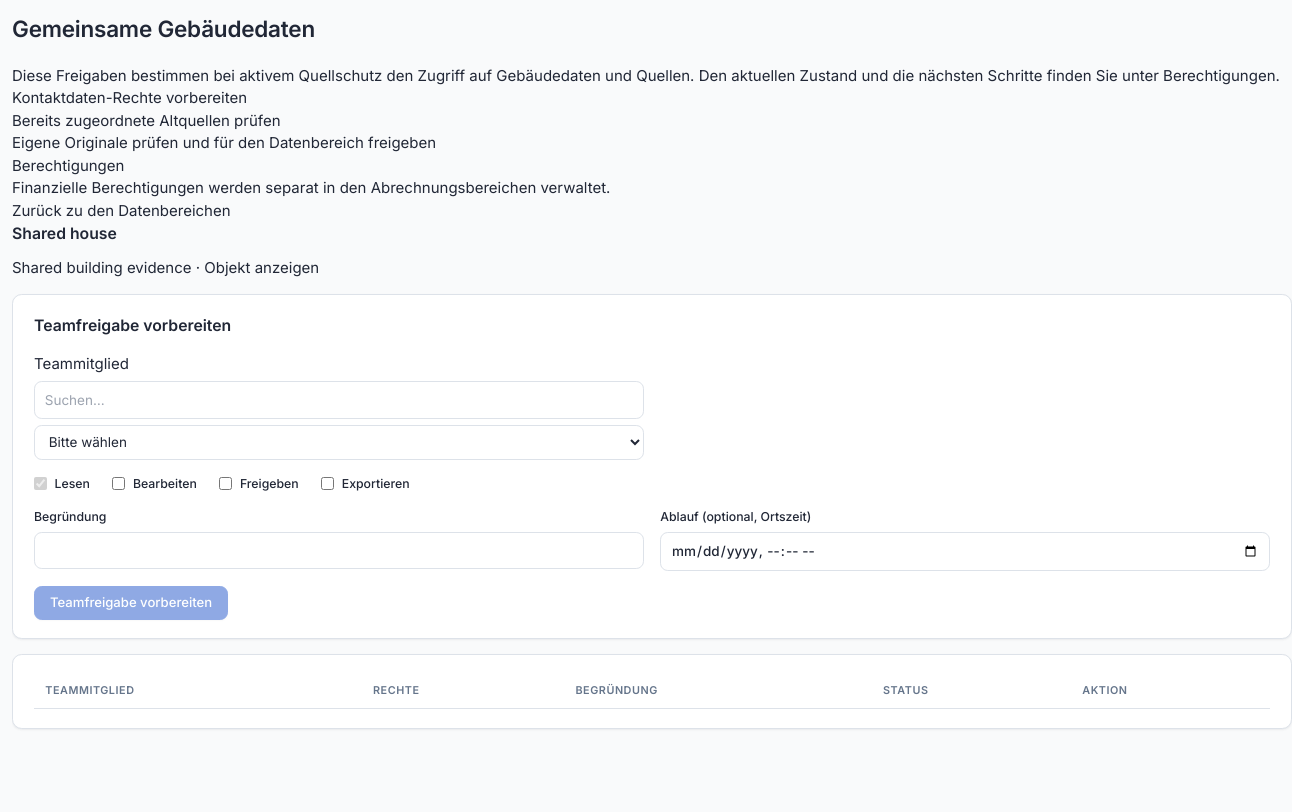
Test: retries a grant with one key, then reloads durable revocation
The image size is (1292, 812).
Expected: the heading "Shared house" is shown, [12,224,117,243]
Select "Clerk (clerk@example.test)" in the dropdown named "Teammitglied" at {"x": 339, "y": 442}, box [34,424,644,460]
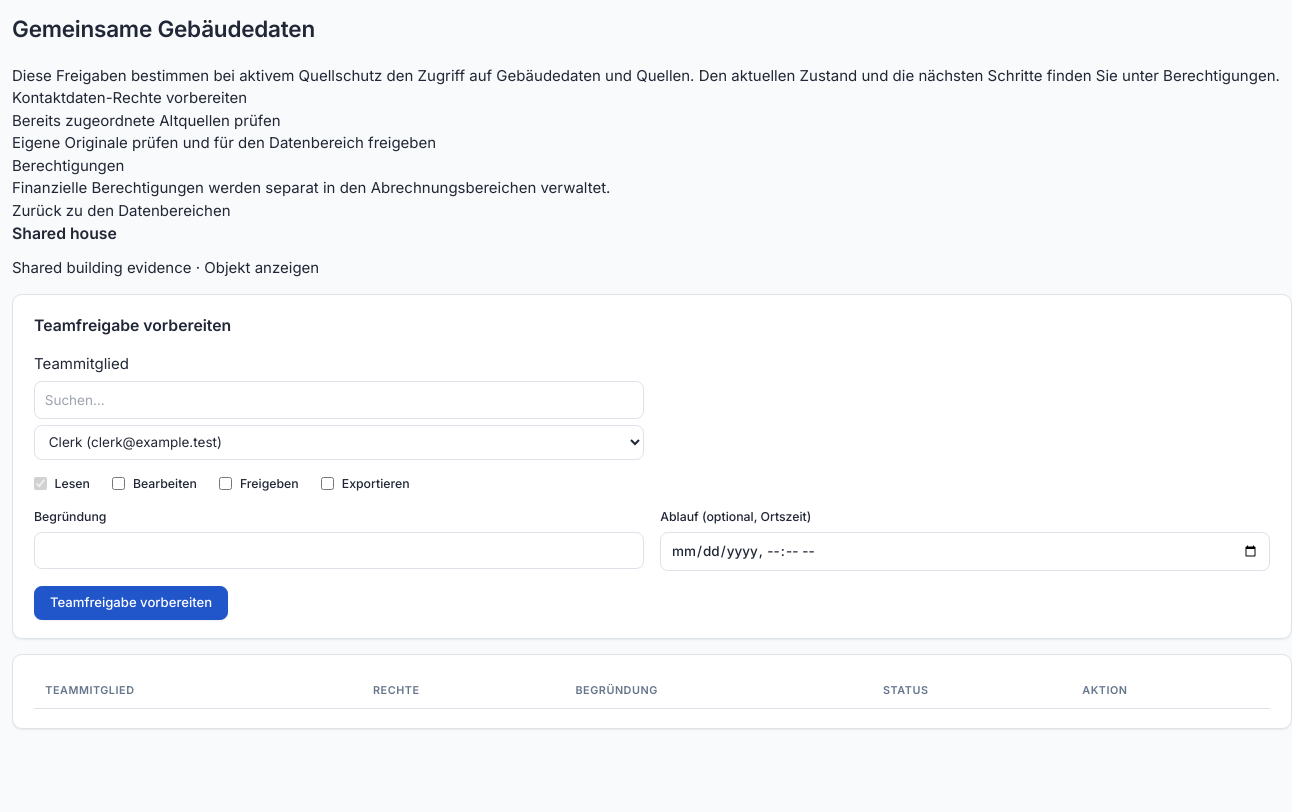
Type "Reviewed audience" into the field labelled "Begründung" at {"x": 339, "y": 550}, box [34,532,644,569]
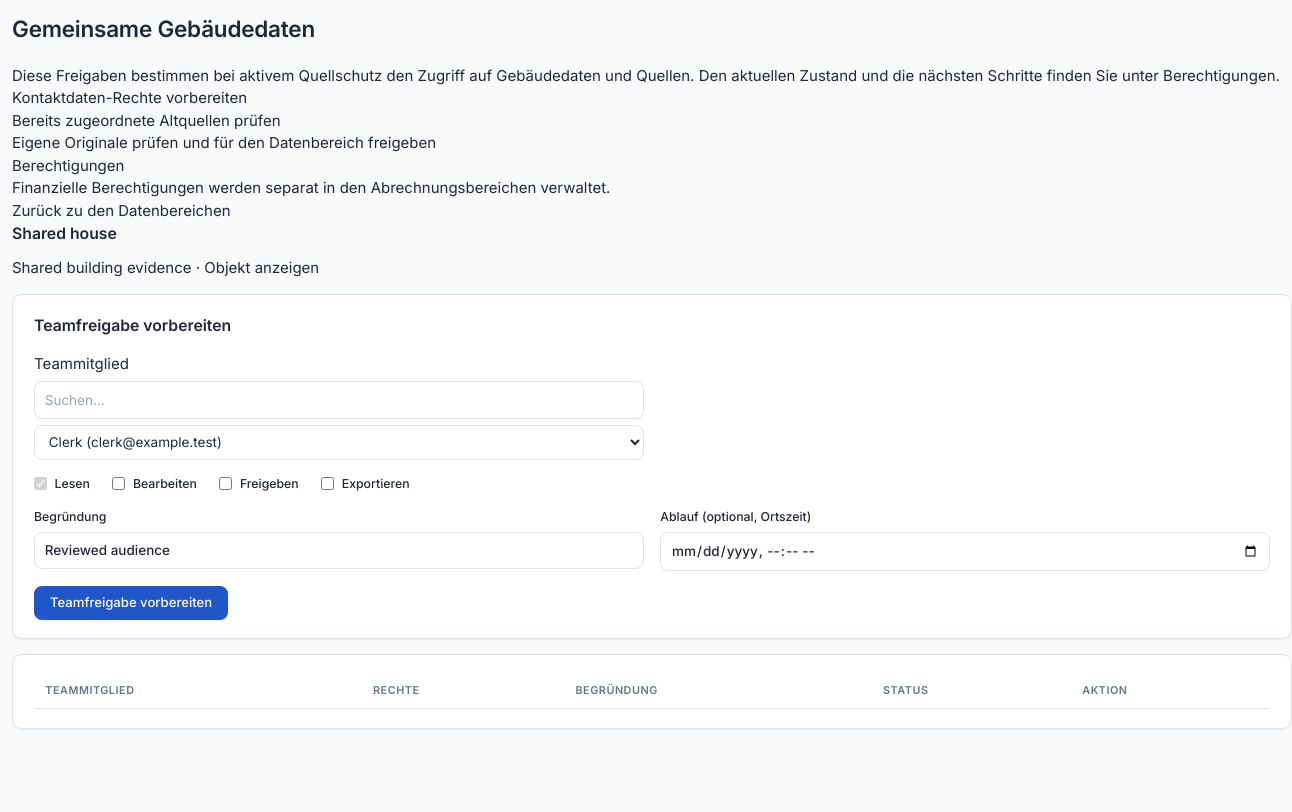
Click the button "Teamfreigabe vorbereiten" at {"x": 131, "y": 603}, box [34,586,228,620]
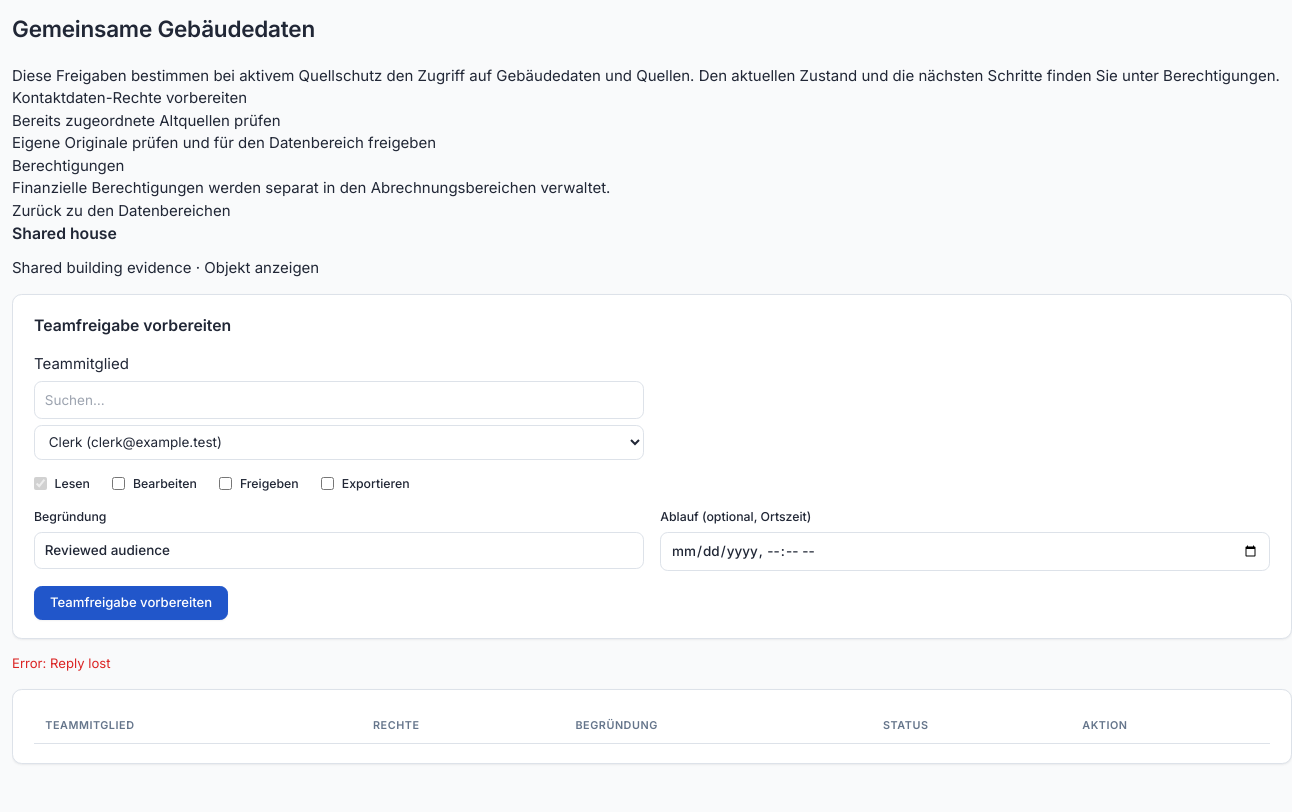
Expected: the text "Error: Reply lost" is shown, [12,655,110,671]
Click the button "Teamfreigabe vorbereiten" at {"x": 131, "y": 603}, box [34,586,228,620]
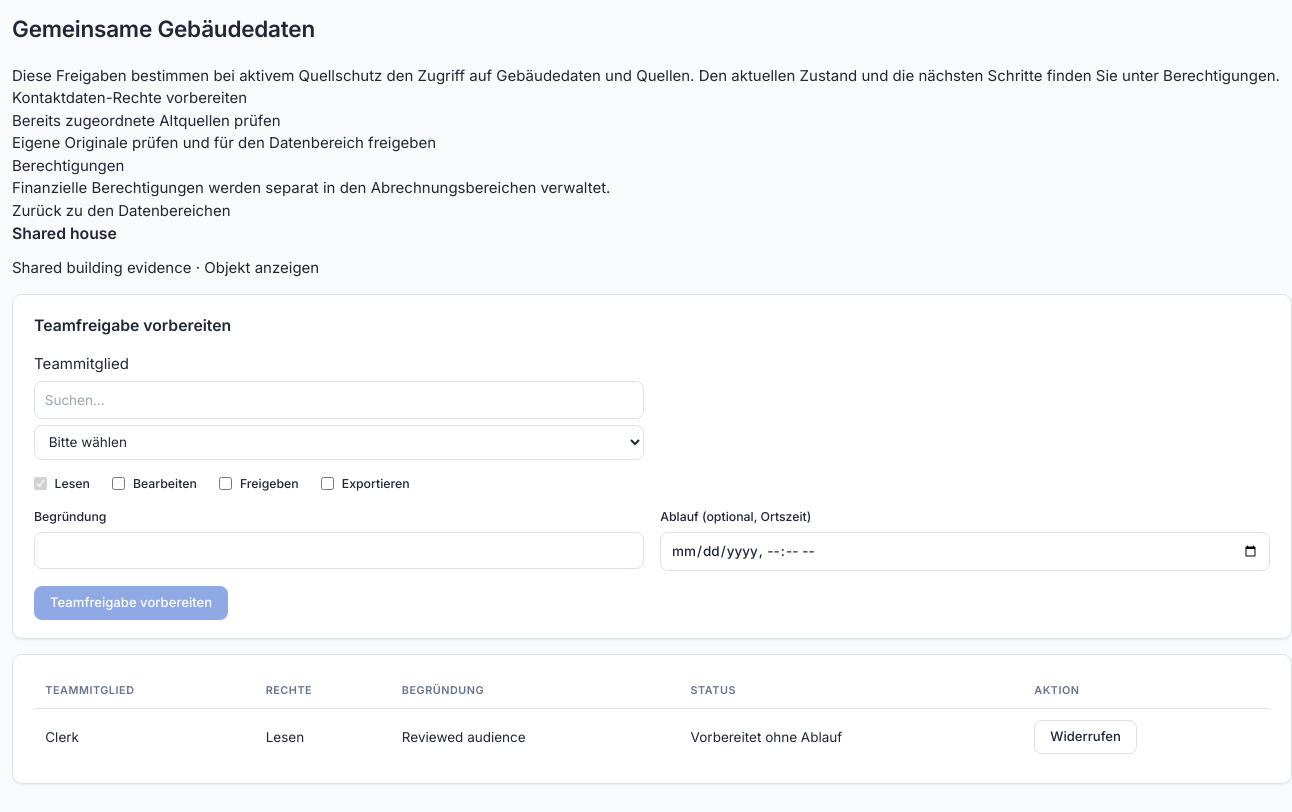
Expected: the text "Vorbereitet ohne Ablauf" is shown, [679,709,1023,764]
Click the button "Widerrufen" at {"x": 1086, "y": 737}, box [1034,720,1137,754]
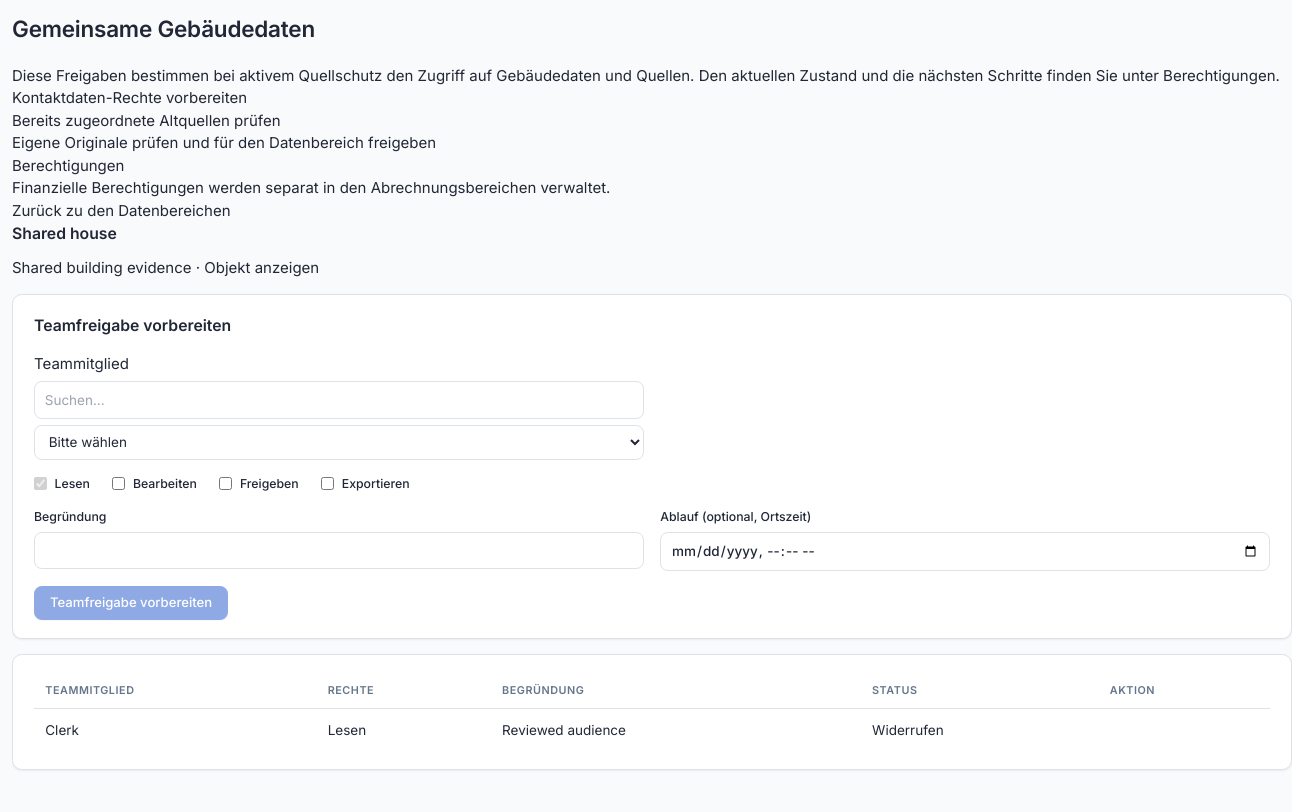
Expected: the text "Widerrufen" is shown, [861,709,1099,751]
